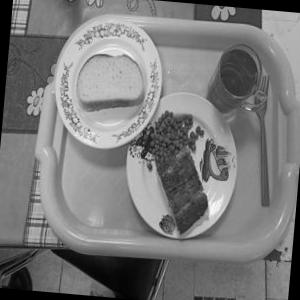bread: (70, 44, 150, 122)
casserole: (128, 97, 223, 238)
tea: (207, 33, 265, 120)
